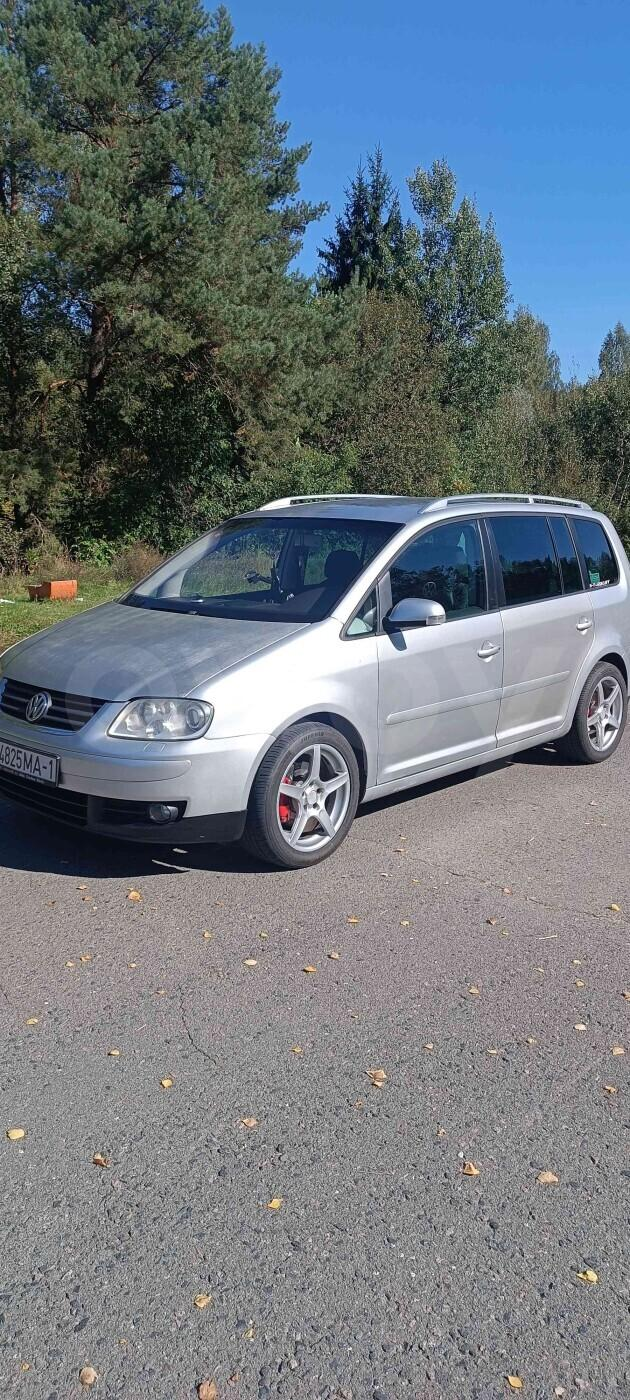Touran_2003-2006: (0, 490, 630, 866)
